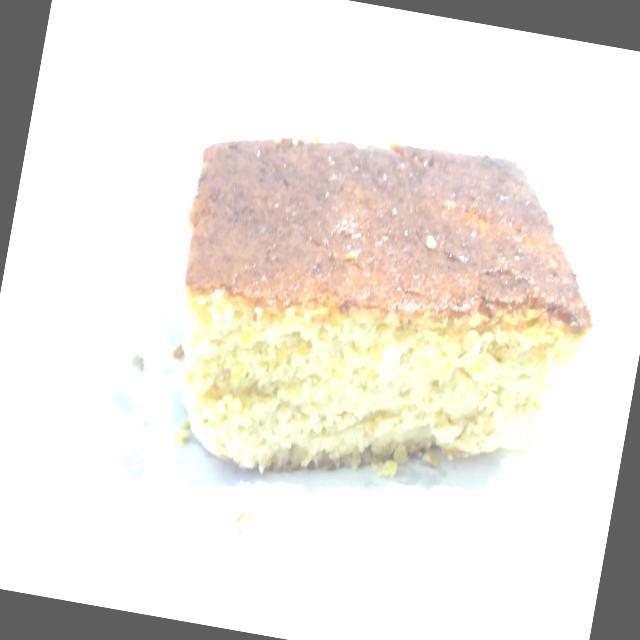Chipa_Guazu: (120, 73, 632, 544)
